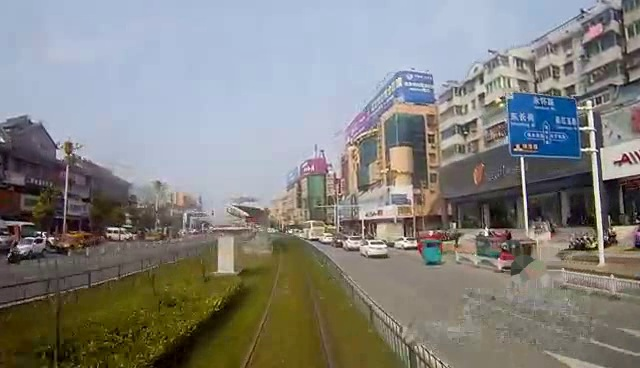car: (361, 237, 392, 260)
